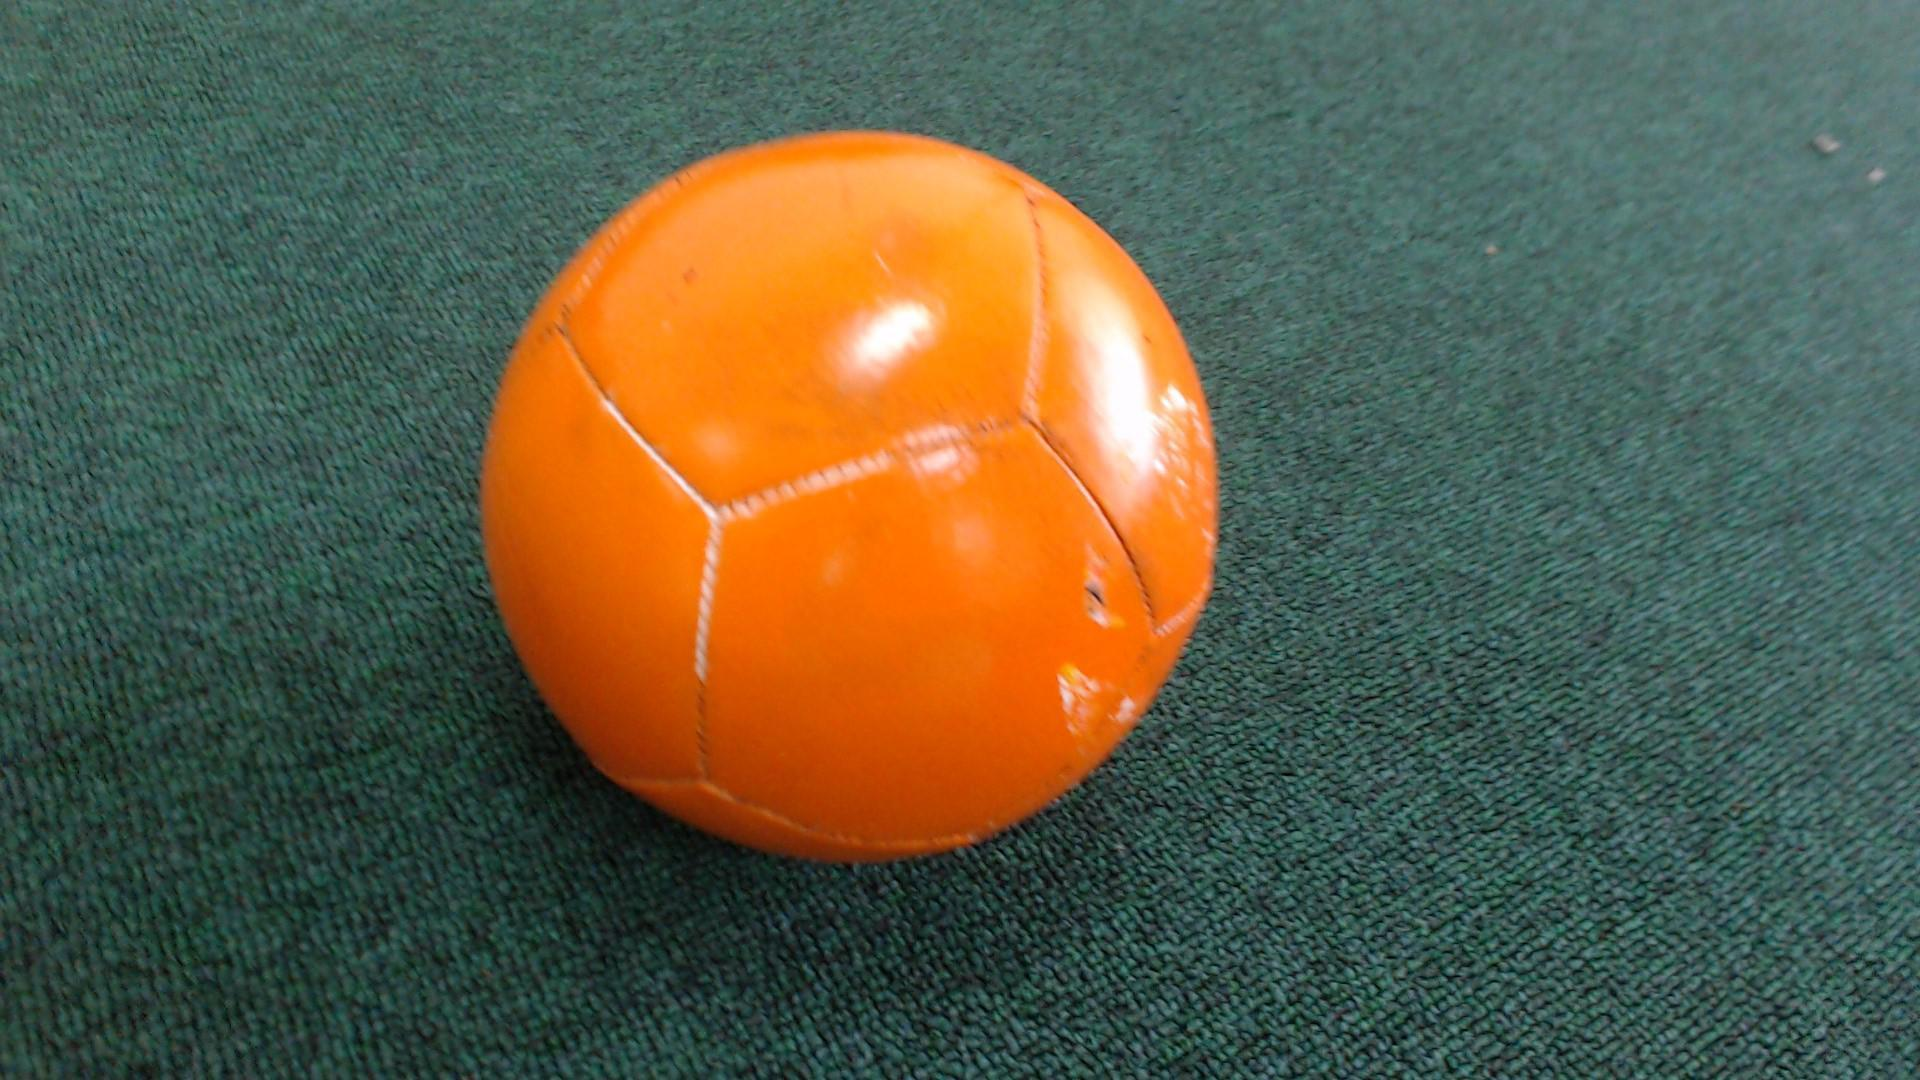bola: (459, 117, 1273, 873)
